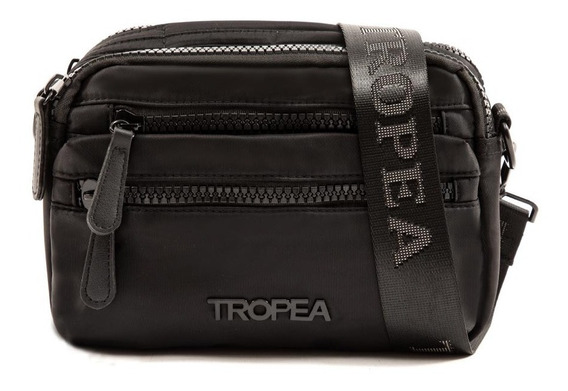cartera: (29, 17, 537, 362)
